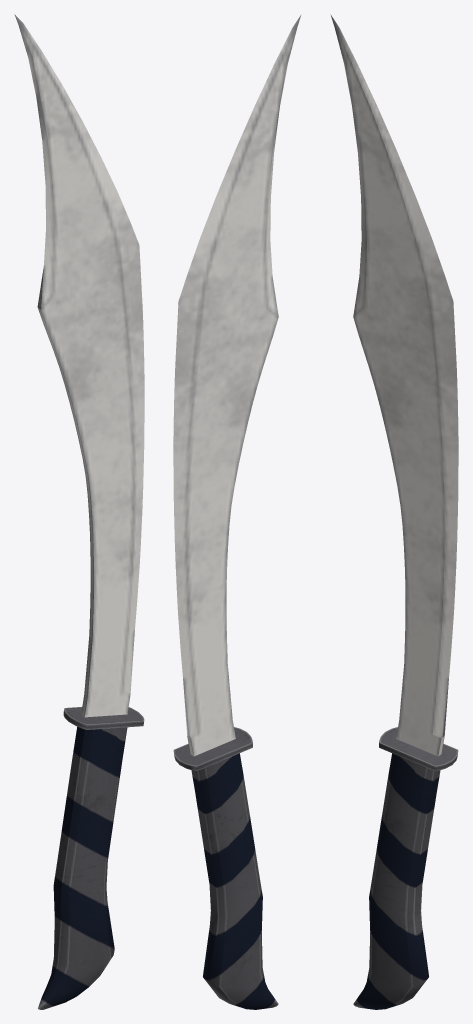
Rendered from scimitar.glb.
The picture shows the model from 3 angles, left to right: view 1: azimuth 30°, elevation 25°; view 2: azimuth 210°, elevation 25°; view 3: azimuth 330°, elevation 25°; orthographic projection.
Visible parts, largest first — view 1: Scimitar; view 2: Scimitar; view 3: Scimitar.
Part boxes in pixels (x1,y1,x2,y2): Scimitar: [14, 14, 144, 1009]; Scimitar: [173, 14, 301, 1009]; Scimitar: [330, 14, 458, 1009].
Size of the model in its own units: 0.1359 by 1 by 0.042.
Materials: 1 (1 with a texture image).
